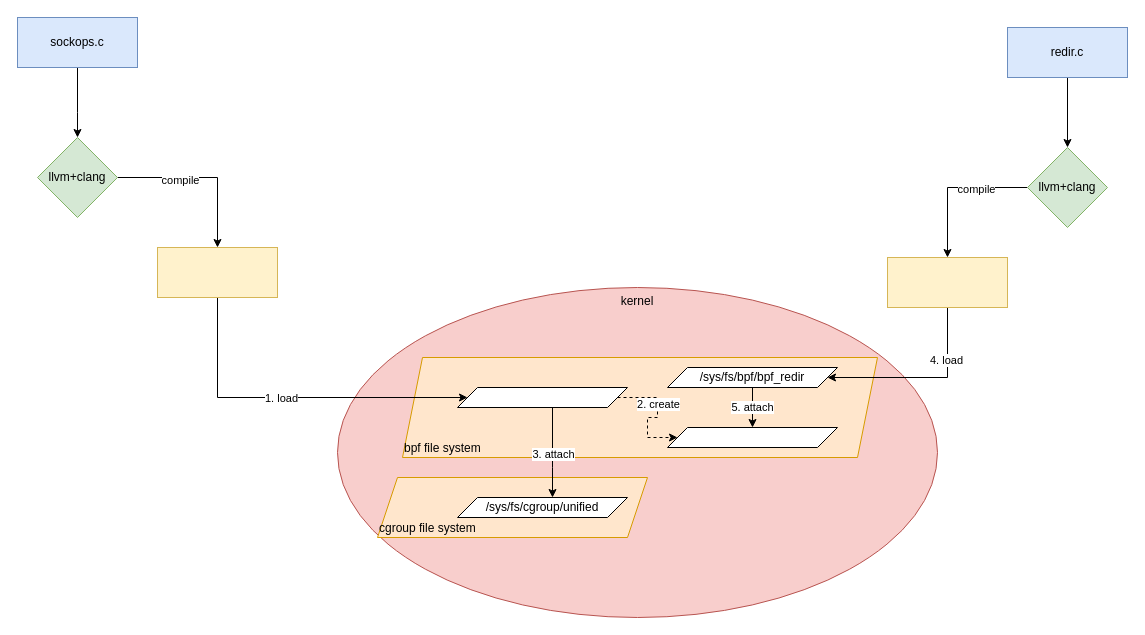
The diagram is 1145 pixels wide and 635 high, and some of its shapes have lost their labels. Here are the shapes that lost their labels. From the top down, the centre of each, then its label:
At point 217,272: "sockops.o".
At point 947,282: "redir.o".
At point 542,397: "/sys/fs/bpf/bpf_sockops".
At point 752,437: "/sys/fs/bpf/bpf_ops_map".
